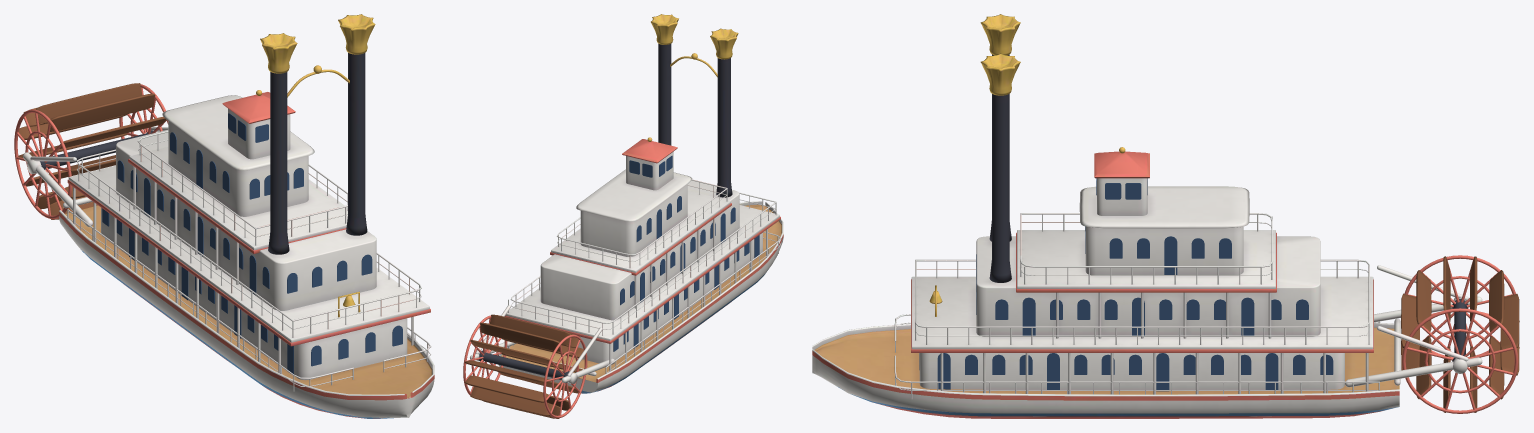
Rendered from paddle-steamer.glb.
The picture shows the model from 3 angles, left to right: view 1: azimuth 30°, elevation 25°; view 2: azimuth 150°, elevation 25°; view 3: azimuth 270°, elevation 25°; orthographic projection. The views are drawn at different scales.
Parts seen in each view (by area): view 1: paddle-steamer_body, paddle-steamer_paddle_wheel, paddle-steamer_windows; view 2: paddle-steamer_body, paddle-steamer_paddle_wheel, paddle-steamer_windows; view 3: paddle-steamer_body, paddle-steamer_paddle_wheel, paddle-steamer_windows.
Part boxes in pixels (box(x1,y1,x2,y2)): paddle-steamer_body: box(23, 14, 434, 418); paddle-steamer_paddle_wheel: box(14, 83, 168, 219); paddle-steamer_windows: box(102, 113, 402, 373); paddle-steamer_body: box(470, 14, 783, 393); paddle-steamer_paddle_wheel: box(463, 314, 587, 418); paddle-steamer_windows: box(613, 155, 759, 351); paddle-steamer_body: box(812, 14, 1482, 418); paddle-steamer_paddle_wheel: box(1401, 255, 1519, 413); paddle-steamer_windows: box(919, 178, 1333, 391).
Bounding box in the file's own units: 8.6 × 19.21 × 34.93.
5 materials, 1 textured.
